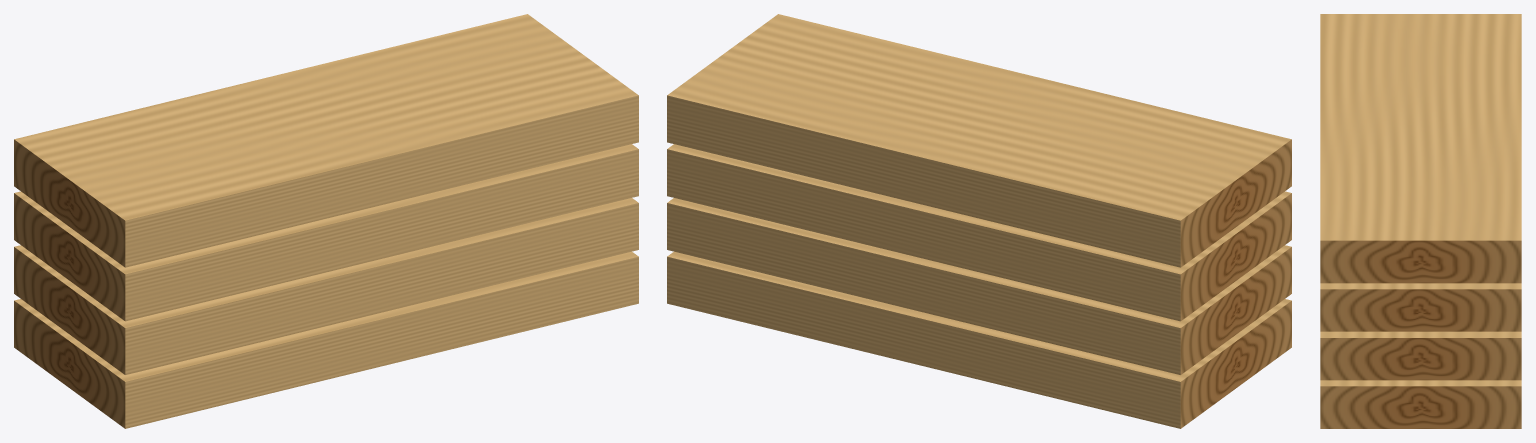
The model's file is boards4.glb.
3 views of the same model, side by side, from view 1: azimuth 30°, elevation 25°; view 2: azimuth 150°, elevation 25°; view 3: azimuth 270°, elevation 25° (orthographic). The views are drawn at different scales.
Parts seen in each view (by area): view 1: boards4; view 2: boards4; view 3: boards4.
Boxes of the visible parts, x1,y1,x2,y2 form: boards4: (14, 14, 638, 428); boards4: (667, 14, 1291, 428); boards4: (1320, 14, 1521, 428).
Bounding box in the file's own units: 1.2 × 0.465 × 0.45.
1 material, 1 textured.
